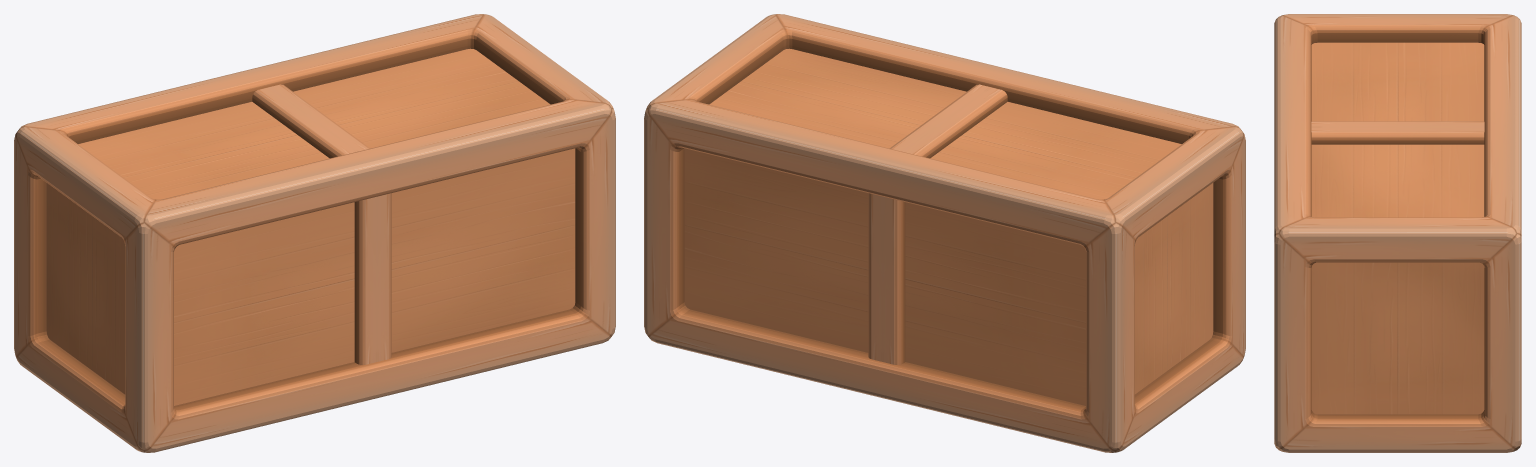
File: woodenbox_2.fbx
The picture shows the model from 3 angles, left to right: view 1: azimuth 30°, elevation 25°; view 2: azimuth 150°, elevation 25°; view 3: azimuth 270°, elevation 25°; orthographic projection. The views are drawn at different scales.
Visible parts, largest first — view 1: woodenbox_2; view 2: woodenbox_2; view 3: woodenbox_2.
Part boxes in pixels (x1,y1,x2,y2): woodenbox_2: [14, 14, 615, 452]; woodenbox_2: [644, 14, 1245, 452]; woodenbox_2: [1274, 14, 1521, 452].
Bounding box in the file's own units: 420 × 200 × 200.
